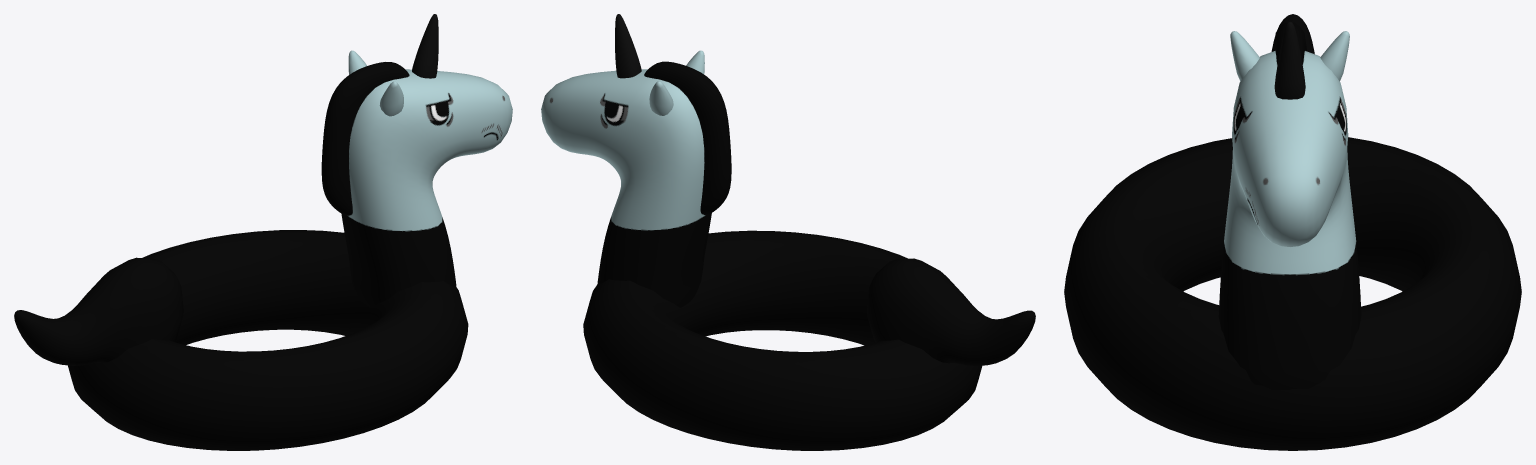
The model's file is unicorn.fbx.
3 views of the same model, side by side, from view 1: azimuth 30°, elevation 25°; view 2: azimuth 150°, elevation 25°; view 3: azimuth 270°, elevation 25° (orthographic). The views are drawn at different scales.
Visible parts, largest first — view 1: Unicorn; view 2: Unicorn; view 3: Unicorn.
Part boxes in pixels (bbox=[...]): Unicorn: bbox=[14, 14, 512, 450]; Unicorn: bbox=[541, 14, 1035, 450]; Unicorn: bbox=[1064, 14, 1521, 450].
Bounding box in the file's own units: 144 × 93.37 × 87.87.
